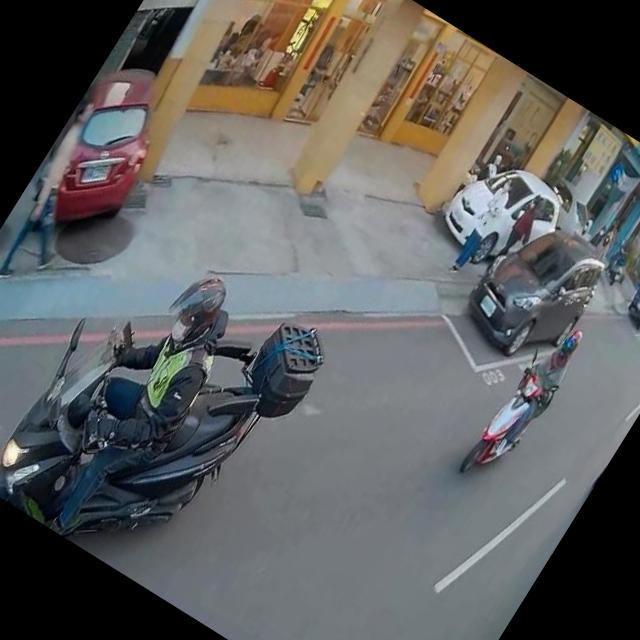person: (5, 237, 266, 561), (0, 92, 132, 299), (473, 314, 590, 468), (438, 166, 524, 282), (488, 189, 554, 273), (584, 226, 618, 266), (585, 218, 611, 250), (573, 212, 598, 240)
